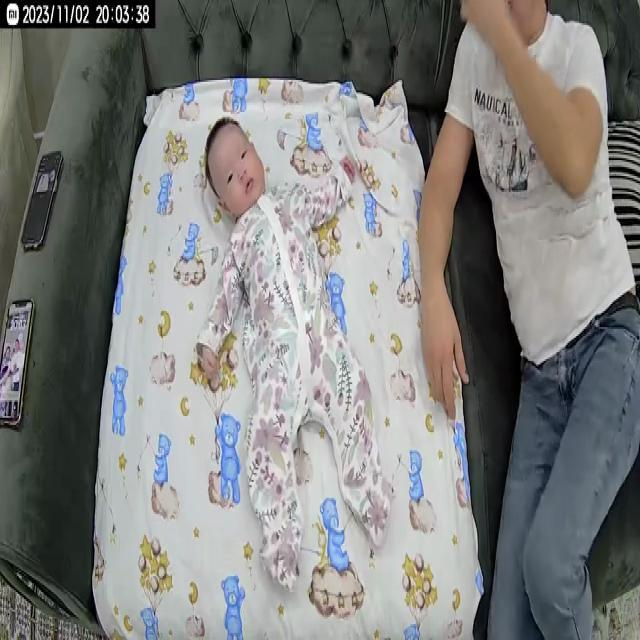baby: (191, 114, 396, 588)
